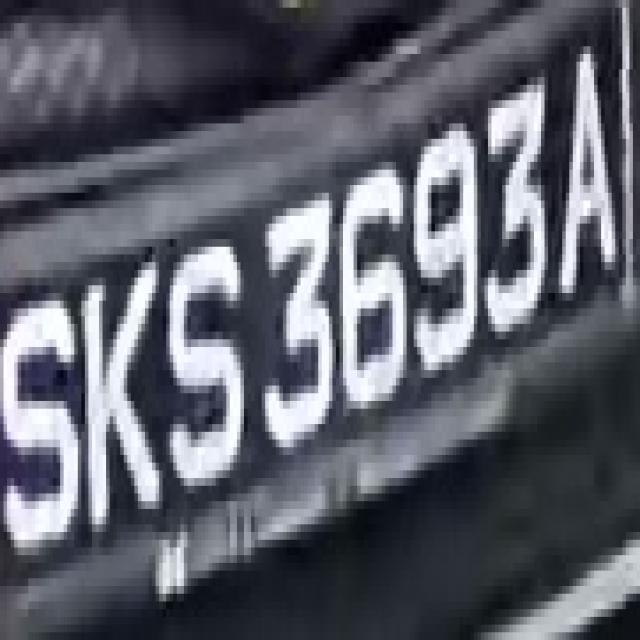3: (258, 170, 340, 455), (477, 77, 555, 363)
6: (332, 139, 414, 439)
9: (400, 116, 484, 386)
A: (548, 38, 629, 324)
K: (78, 262, 162, 548)
S: (152, 216, 240, 509), (4, 278, 82, 555)
